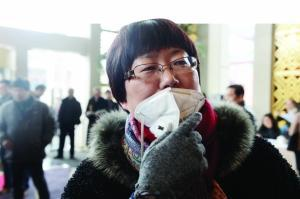WRONG: (132, 54, 204, 126)
